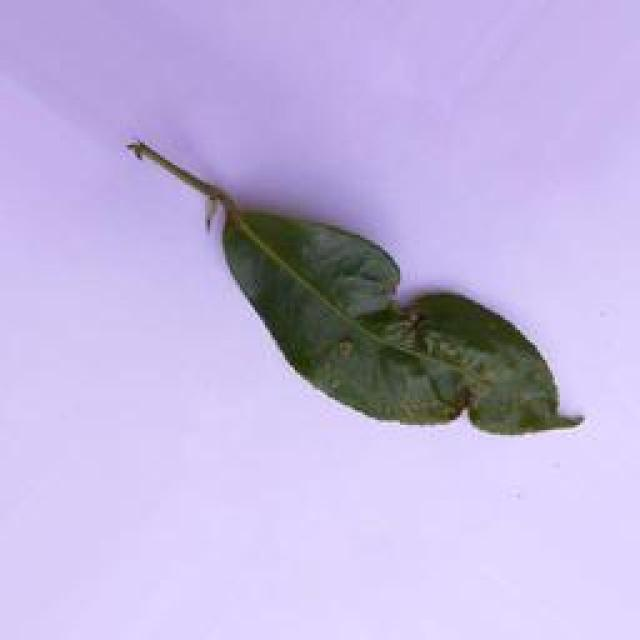Helopeltis: (216, 179, 591, 451)
